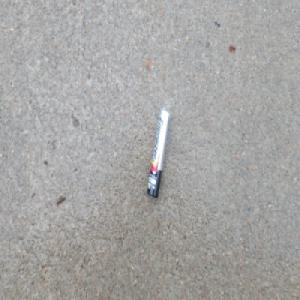Battery: (146, 109, 170, 200)
